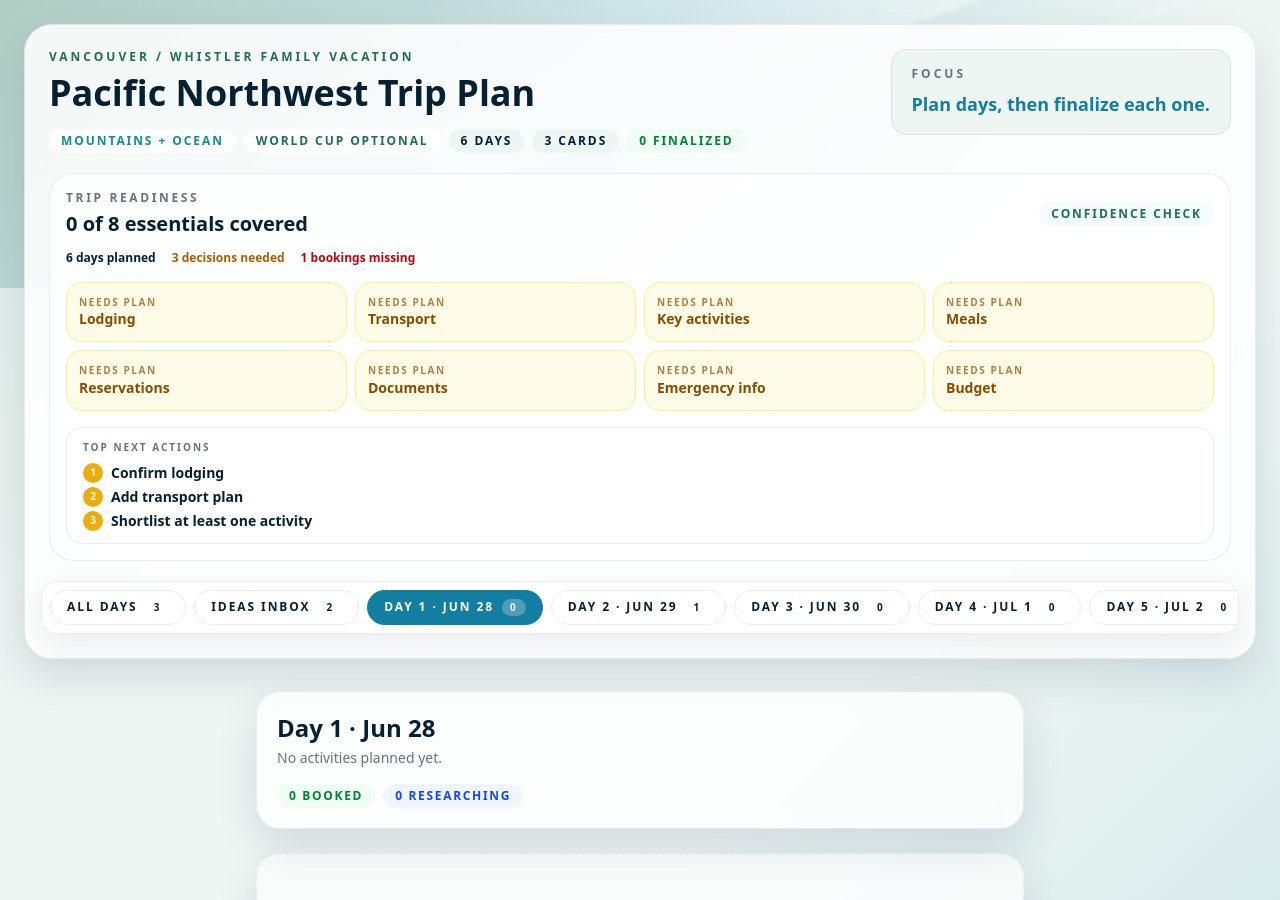
Test: KanbanBoard › shows the ideas inbox decision queue with group headers and quick actions
// Ideas Inbox tab is the last column button
Click the button "Ideas Inbox 2". click: click(277, 607)
box: [194,590,359,625]
(page scrolled)
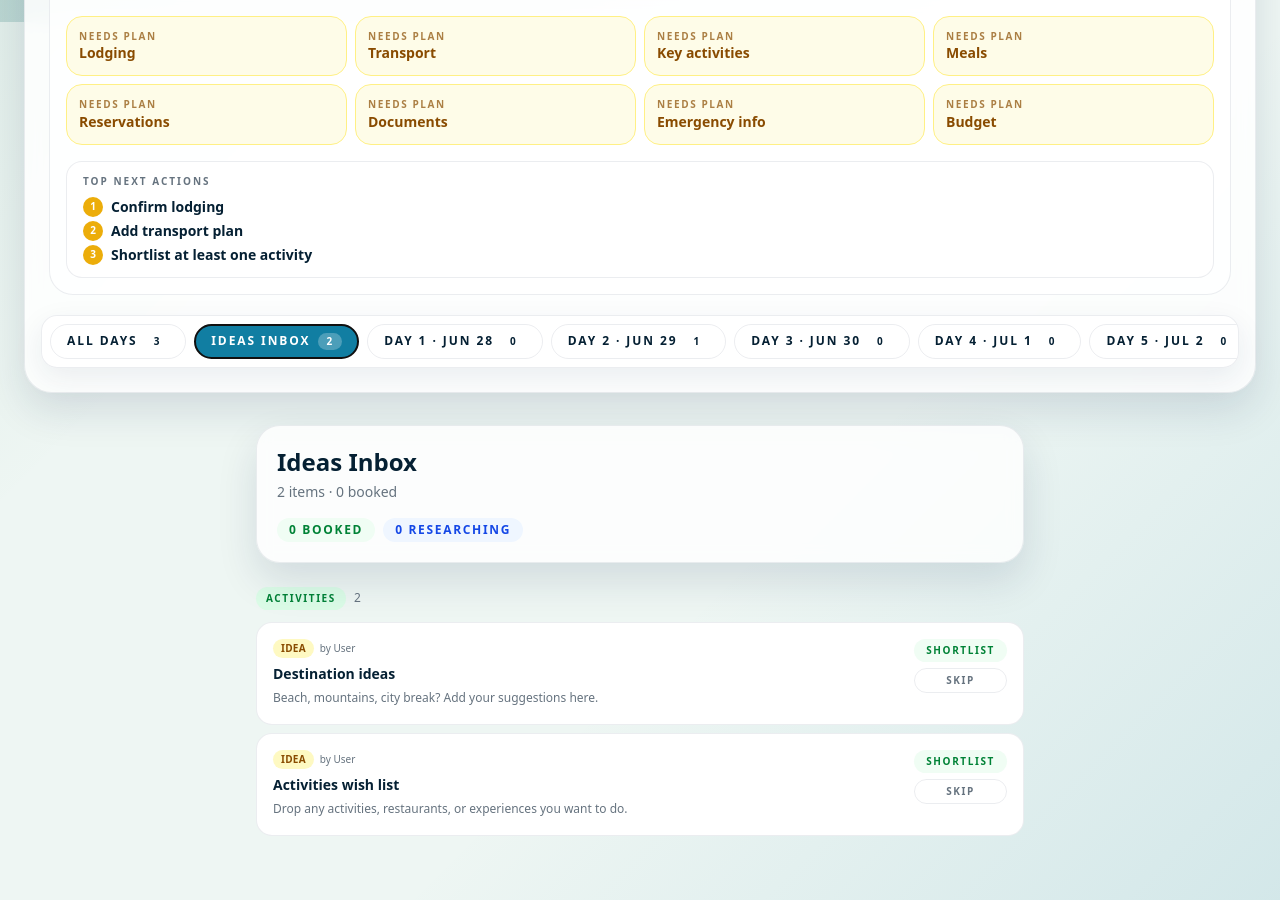
Expected: the element with test id "ideas-inbox-queue" is shown, [256,587,1024,836]
Expected: the text "Activities" is shown, [256,587,346,610]
Expected: the 1st button "Shortlist" is shown, [914,639,1007,662]
